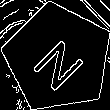N_NE: (26, 26, 90, 90)
